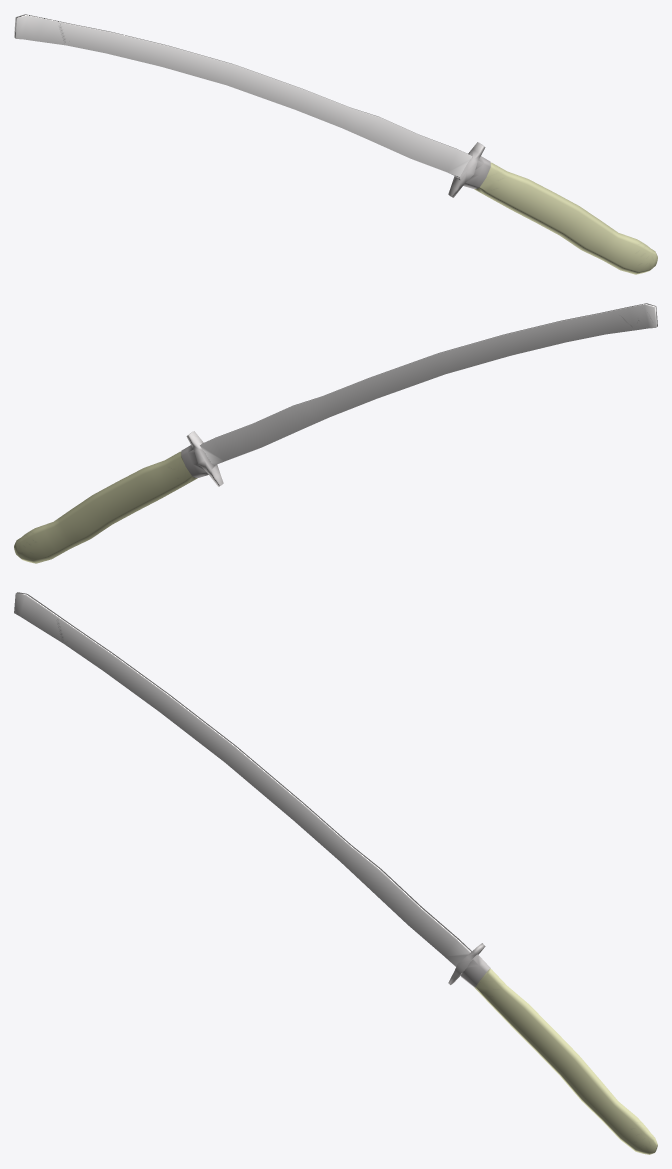
The model's file is assassin-sword.fbx.
The picture shows the model from 3 angles, top to bottom: view 1: azimuth 30°, elevation 25°; view 2: azimuth 150°, elevation 25°; view 3: azimuth 330°, elevation 25°; orthographic projection.
Visible parts, largest first — view 1: unamed; view 2: unamed; view 3: unamed.
Boxes of the visible parts, x1,y1,x2,y2 form: unamed: [14, 14, 657, 274]; unamed: [14, 303, 657, 563]; unamed: [14, 592, 657, 1154].
Bounding box in the file's own units: 1.57 × 0.9507 × 0.0398.
1 material, 1 textured.
